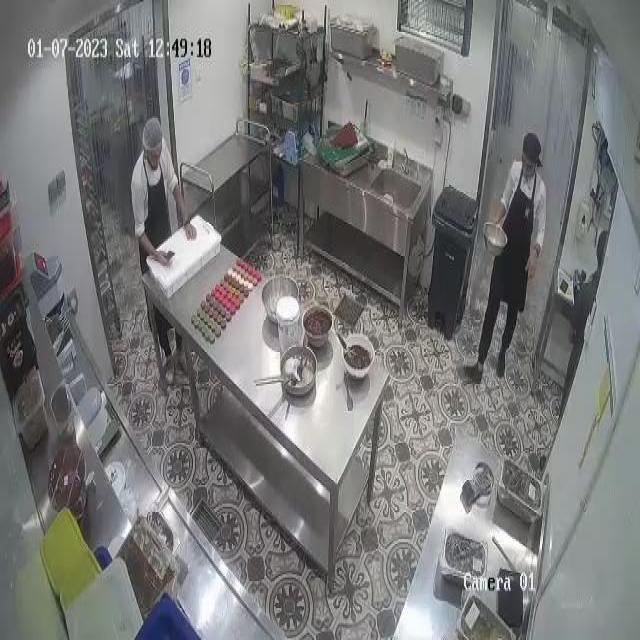hairnet: (144, 119, 164, 149)
